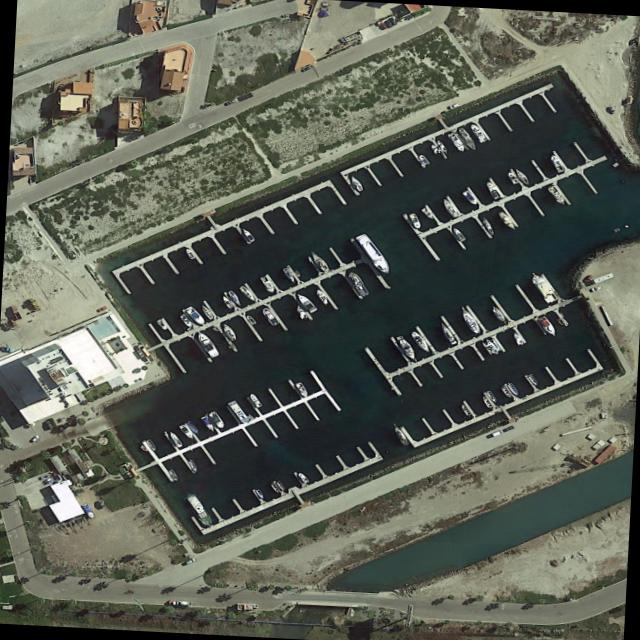large-vehicle: (591, 273, 613, 284), (167, 600, 192, 608)
ship: (354, 233, 394, 276), (183, 494, 215, 528), (526, 271, 558, 304), (194, 331, 221, 359), (457, 306, 482, 335), (345, 271, 371, 297), (394, 335, 418, 362), (456, 127, 479, 153), (227, 400, 250, 425), (409, 330, 432, 354), (307, 250, 330, 273), (294, 292, 318, 314), (537, 316, 559, 338), (437, 322, 458, 345), (390, 422, 410, 446), (183, 306, 206, 326), (546, 185, 567, 206), (446, 133, 467, 153), (489, 305, 509, 326), (439, 198, 459, 219), (497, 211, 517, 232), (260, 307, 280, 327), (468, 123, 487, 144), (480, 338, 502, 356), (207, 411, 226, 430), (237, 285, 257, 302), (548, 154, 565, 174), (259, 276, 277, 294), (513, 168, 531, 186), (220, 323, 237, 342), (484, 181, 501, 200), (178, 424, 196, 441), (226, 290, 243, 307), (348, 175, 364, 193), (480, 217, 495, 236), (200, 416, 216, 433), (281, 267, 297, 284), (461, 190, 478, 206), (294, 382, 310, 398), (168, 431, 183, 448), (80, 503, 95, 520), (199, 305, 214, 321), (247, 393, 262, 409), (178, 314, 194, 329), (315, 288, 329, 305), (408, 213, 422, 230), (185, 420, 200, 435), (240, 228, 255, 243), (451, 227, 466, 242), (294, 305, 308, 320), (506, 383, 520, 397), (434, 139, 448, 153), (485, 390, 498, 404), (167, 469, 180, 483), (220, 296, 234, 309), (527, 373, 540, 387), (420, 207, 434, 220), (145, 439, 158, 452), (500, 386, 513, 399), (506, 172, 519, 185), (187, 459, 199, 473), (155, 319, 169, 331), (511, 332, 523, 346), (459, 404, 471, 417), (417, 154, 430, 166), (428, 144, 441, 156), (296, 473, 309, 484), (481, 396, 492, 409), (254, 489, 266, 500), (269, 483, 281, 494), (275, 481, 287, 492), (184, 248, 195, 260), (245, 315, 257, 325), (139, 444, 149, 453), (292, 270, 301, 277), (246, 414, 254, 421), (212, 326, 220, 332)
small-vehicle: (0, 346, 15, 354), (225, 98, 238, 106), (29, 434, 40, 443), (582, 274, 593, 283), (184, 558, 196, 566), (490, 430, 503, 437), (44, 420, 53, 430), (382, 20, 393, 28), (448, 103, 460, 110), (502, 426, 514, 433), (589, 286, 602, 292), (299, 66, 310, 73), (378, 22, 387, 30), (387, 18, 397, 25)
